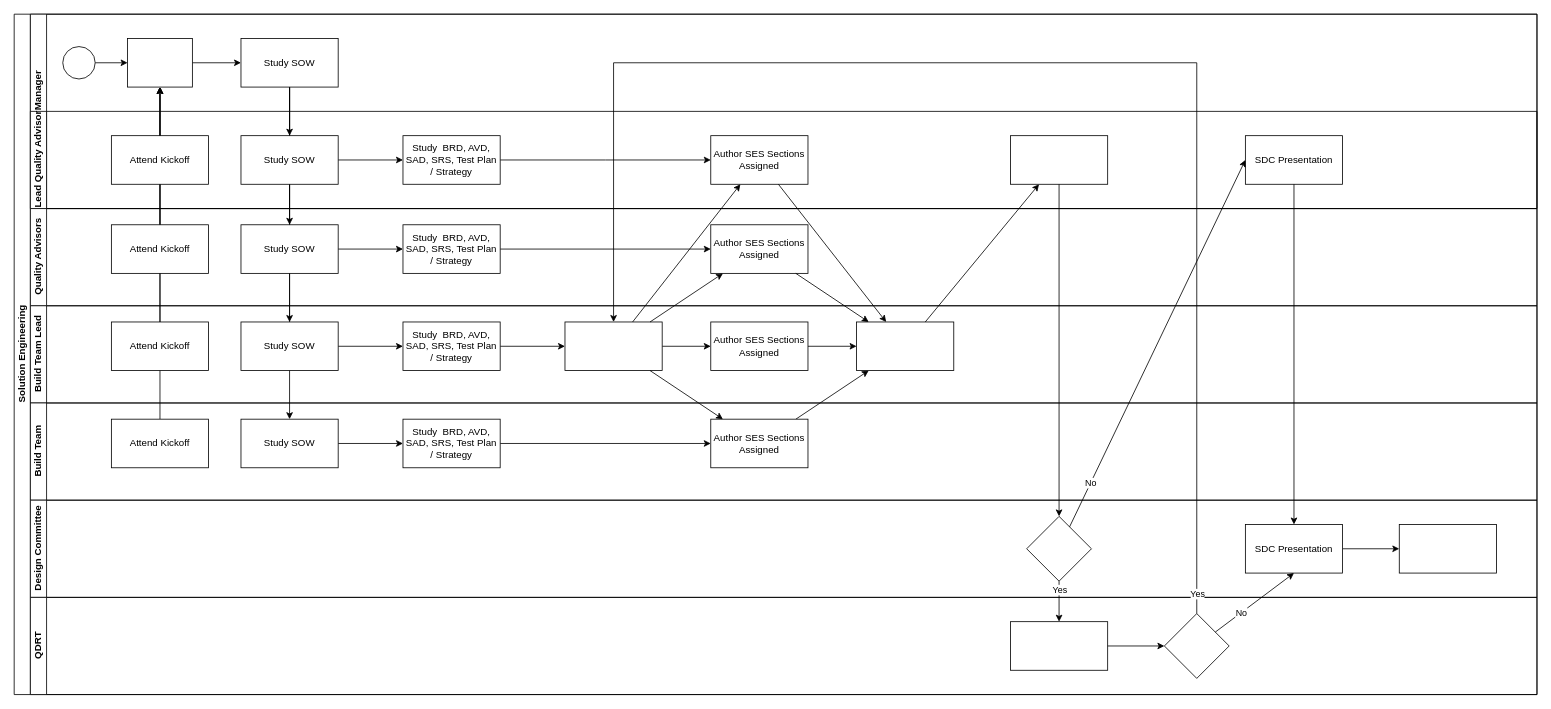
Some shapes in this 1551 by 709 pixel diagram are drawn without their labels. The centre of each missing label's shape, as x and y in pixels:
"Approve SES Ready for SDC" goes at point 1059,159.
"Divide up work" goes at point 613,346.
"Harmonize SES" goes at point 905,346.
"High Risk" goes at point 1196,645.
"Hold Kick-off Meeting for Engineering" goes at point 159,62.
"Is QDRT Required" goes at point 1058,548.
"QDRT Review" goes at point 1059,645.
"SES Approval" goes at point 1447,548.
"Start" goes at point 78,62.
